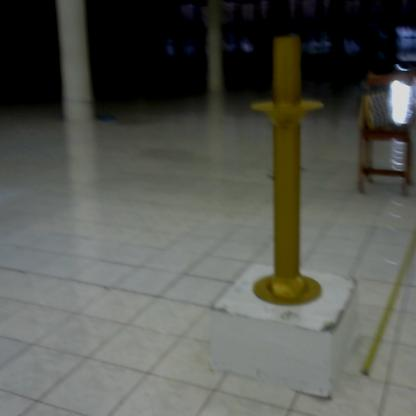pole: (246, 30, 327, 314)
